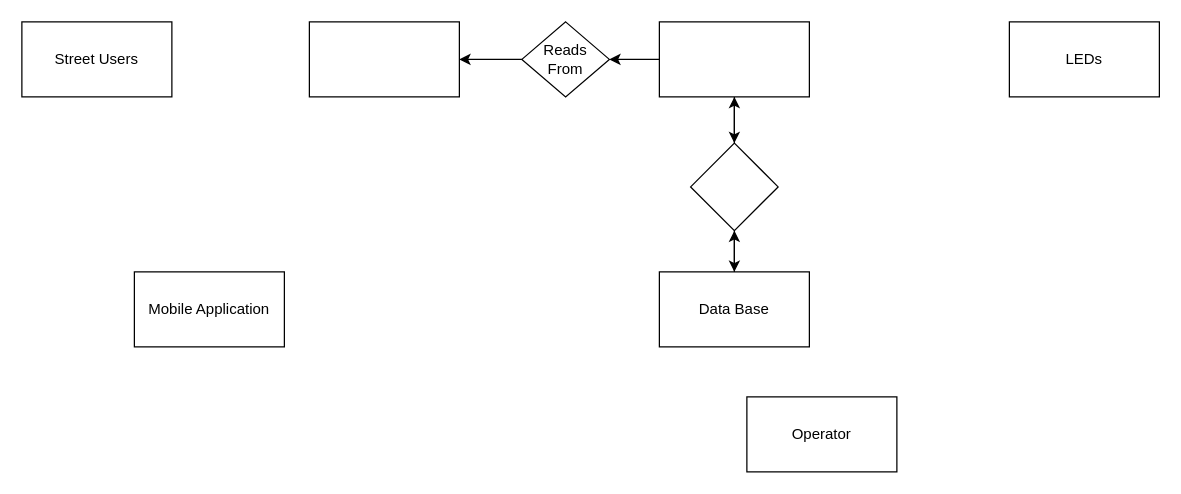
This 1181x494 diagram has some shape labels left out. The shapes that lost their labels are listed below. From the top down, each one's centre as x and y in pixels, then its label:
At pixel 383 59: "Sensors".
At pixel 733 59: "Main Module".
At pixel 733 186: "Sends Data".
